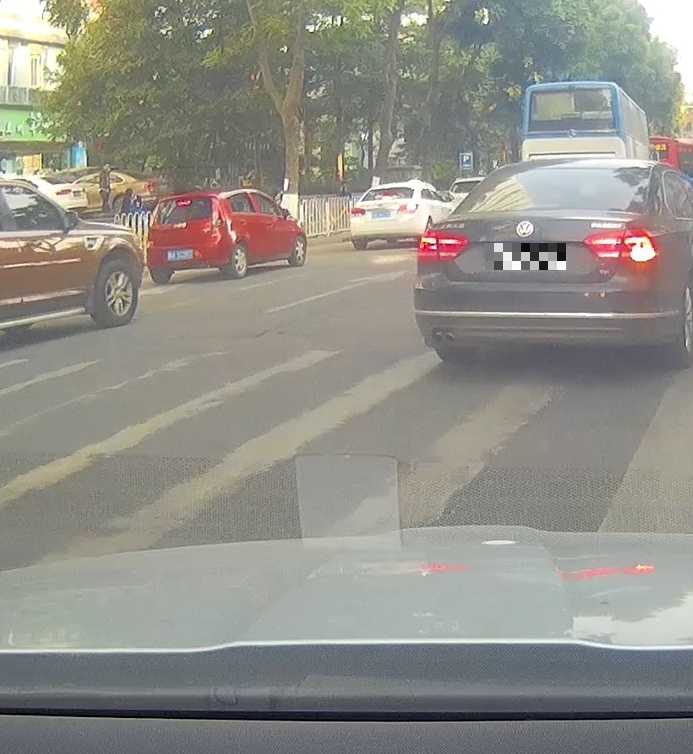L_light: (415, 230, 470, 263), (148, 218, 154, 228)
R_light: (582, 226, 659, 266), (210, 211, 223, 227)
T_light: (522, 204, 558, 210), (175, 200, 191, 207)
day-brake: (145, 192, 230, 285)
day-right: (414, 161, 660, 364)
plate_1: (485, 243, 566, 270)
